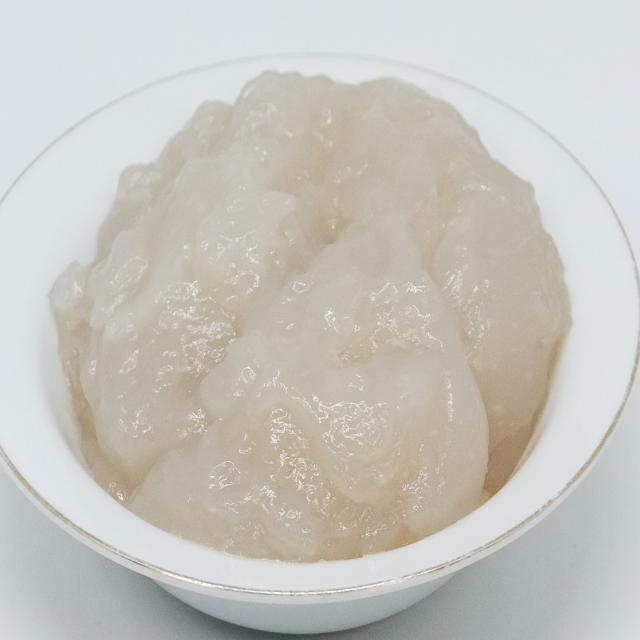Papeda: (39, 51, 582, 575)
